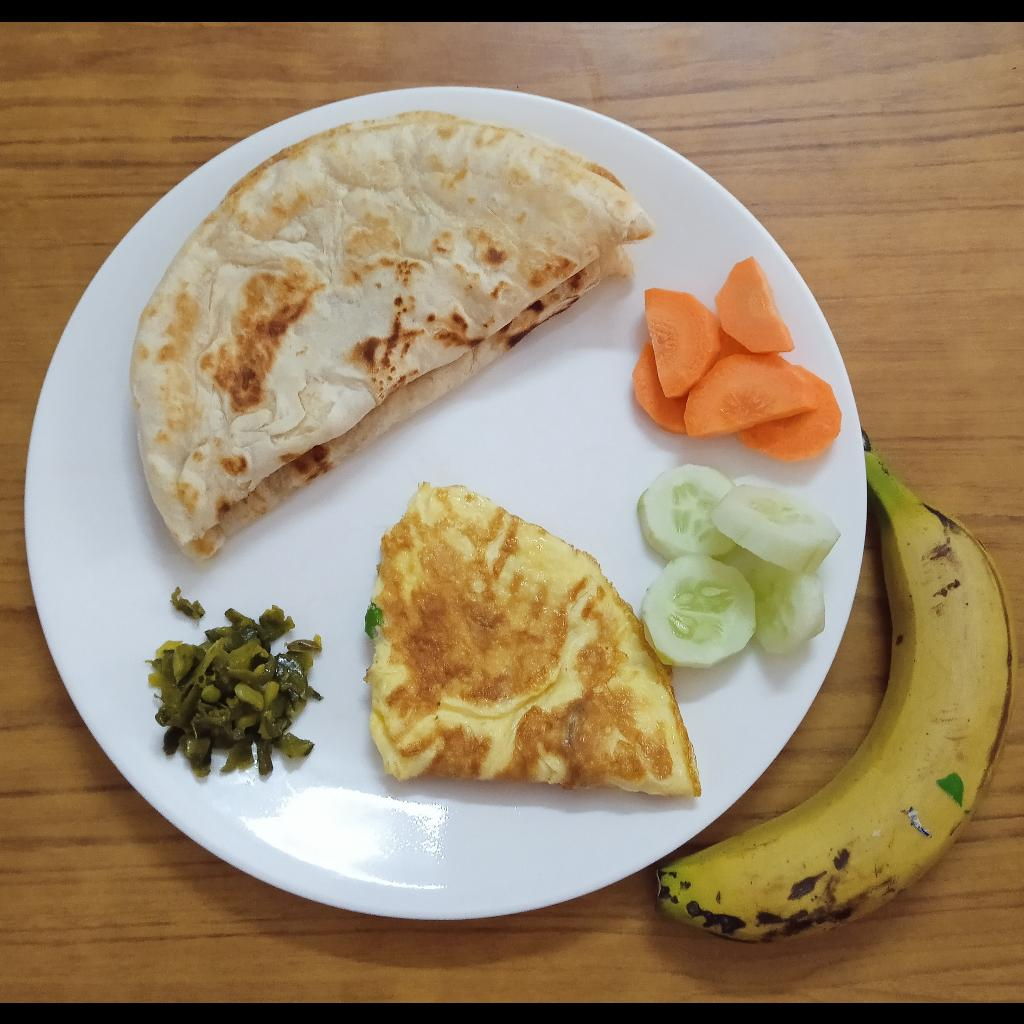banana: (655, 426, 1019, 945)
carrot: (632, 254, 843, 462)
cucumber: (638, 463, 841, 668)
egg-poached: (366, 483, 703, 797)
ruti: (128, 109, 659, 568)
shim: (148, 604, 324, 777)
